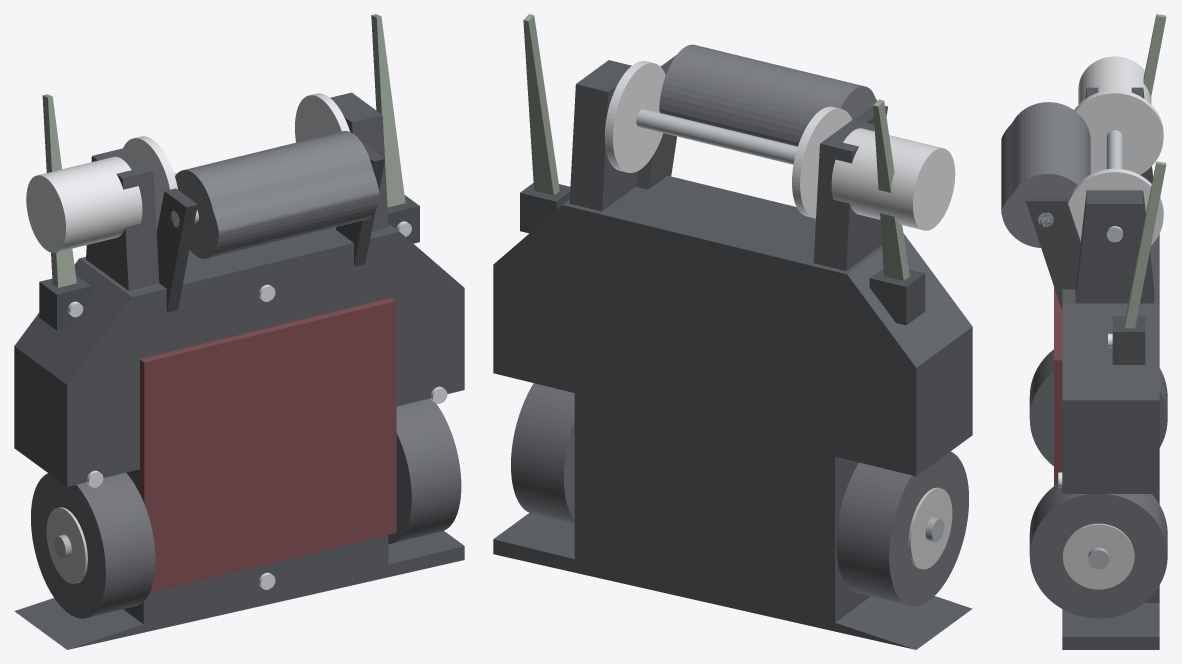
File: baphomet.glb
The picture shows the model from 3 angles, left to right: view 1: azimuth 30°, elevation 25°; view 2: azimuth 150°, elevation 25°; view 3: azimuth 270°, elevation 25°; orthographic projection. The views are drawn at different scales.
Parts seen in each view (by area): view 1: chassis, top_plate, weapon, wheel_r0, weapon_motor_can, wheel_l0, weapon_arm_r, dt_arm_weapon_0, fork_1, weapon_arm_l, dt_hub_wheel_r0, drum_flange_l (+5 smaller); view 2: chassis, wheel_r0, weapon, weapon_motor_can, wheel_l0, weapon_arm_l, weapon_arm_r, drum_flange_l, fork_1, weapon_shaft, drum_flange_r, fork_0 (+4 smaller); view 3: chassis, wheel_l0, weapon, weapon_arm_l, drum_flange_r, dt_arm_weapon_1, dt_hub_wheel_l0, wheel_r0, drum_flange_l, weapon_motor_can, fork_1, top_plate (+5 smaller).
Part boxes in pixels (x1,y1,x2,y2): chassis: (14, 224, 464, 649); top_plate: (140, 298, 396, 592); weapon: (175, 131, 379, 258); wheel_r0: (31, 472, 155, 618); weapon_motor_can: (26, 156, 142, 252); wheel_l0: (388, 398, 461, 543); weapon_arm_r: (86, 148, 159, 290); dt_arm_weapon_0: (156, 188, 197, 312); fork_1: (371, 14, 405, 207); weapon_arm_l: (330, 92, 388, 231); dt_hub_wheel_r0: (46, 507, 87, 583); drum_flange_l: (295, 93, 349, 142); chassis: (493, 175, 972, 649); wheel_r0: (836, 451, 968, 606); weapon: (659, 44, 876, 146); weapon_motor_can: (831, 128, 955, 230); wheel_l0: (511, 383, 574, 523); weapon_arm_l: (569, 60, 638, 211); weapon_arm_r: (813, 119, 881, 270); drum_flange_l: (604, 61, 665, 172); fork_1: (523, 14, 559, 195); weapon_shaft: (636, 109, 797, 164); drum_flange_r: (792, 106, 852, 218); fork_0: (873, 99, 909, 280); chassis: (1062, 234, 1159, 649); wheel_l0: (1029, 483, 1167, 618); weapon: (1001, 102, 1090, 247); weapon_arm_l: (1075, 190, 1154, 303); drum_flange_r: (1074, 90, 1163, 174); dt_arm_weapon_1: (1025, 196, 1080, 310); dt_hub_wheel_l0: (1063, 523, 1134, 589); wheel_r0: (1029, 349, 1167, 465); drum_flange_l: (1068, 168, 1163, 245); weapon_motor_can: (1078, 56, 1151, 104); fork_1: (1125, 161, 1166, 328); top_plate: (1054, 287, 1062, 485).
Size of the model in its own units: 104 by 129 by 41.01.
